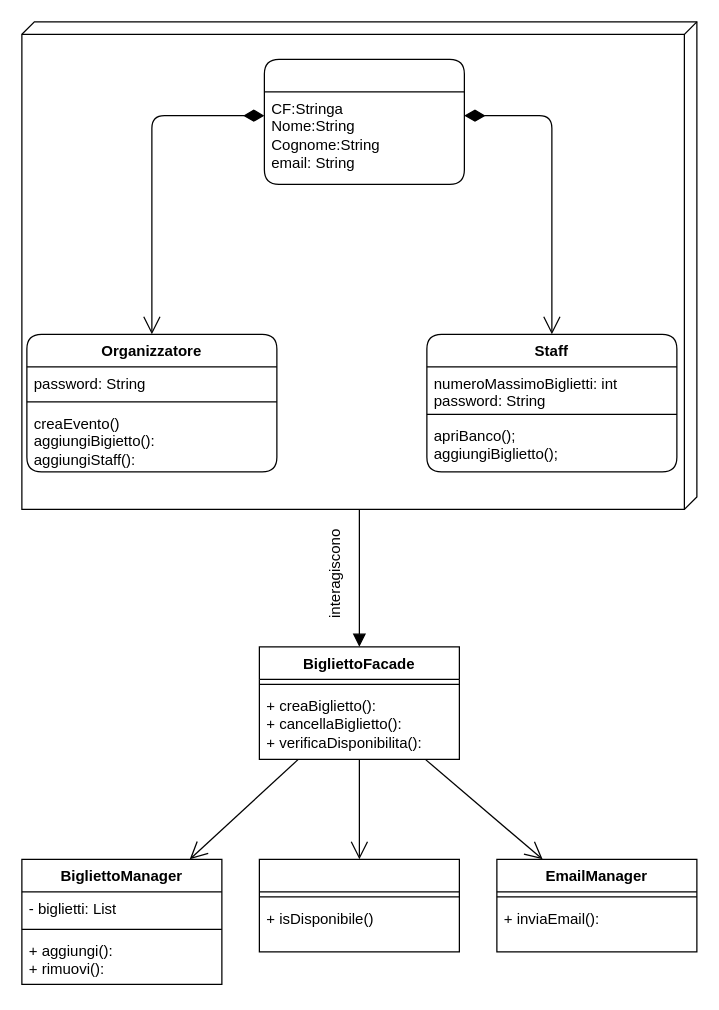
Some shapes in this 719 by 1010 pixel diagram are drawn without their labels. The box of each missing label's shape, as (x1, y1, x2, y2) in pixels:
Client: (21, 21, 697, 509)
DisponibilitaBiglietto: (258, 858, 459, 952)
Persona: (263, 58, 464, 184)
